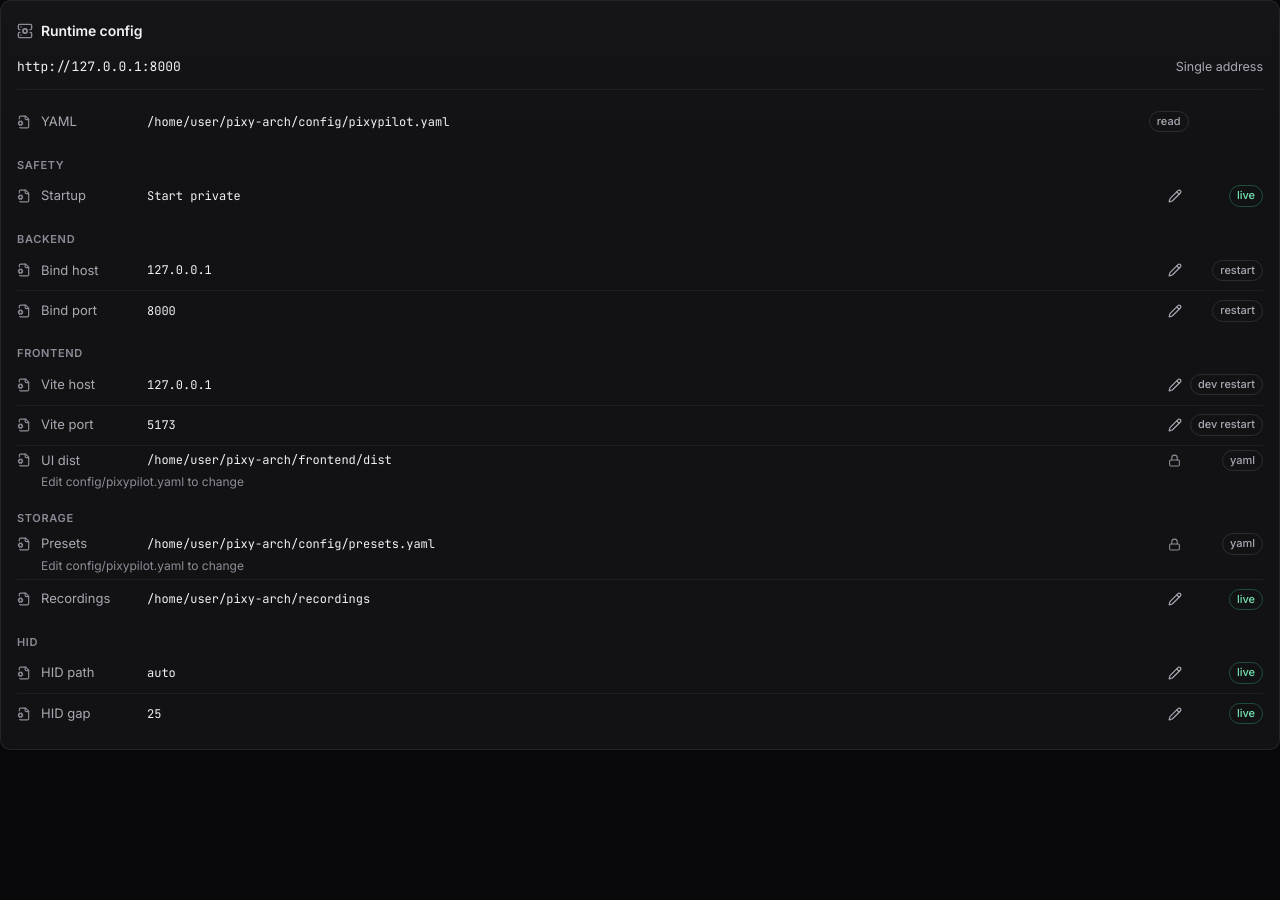
Test: RuntimeSettingsPanel › edits the Vite dev server port through runtime settings
The width and height of the screenshot is (1280, 900).
Click the button named "Edit Vite port": (1174, 425) [1160,411,1188,439]
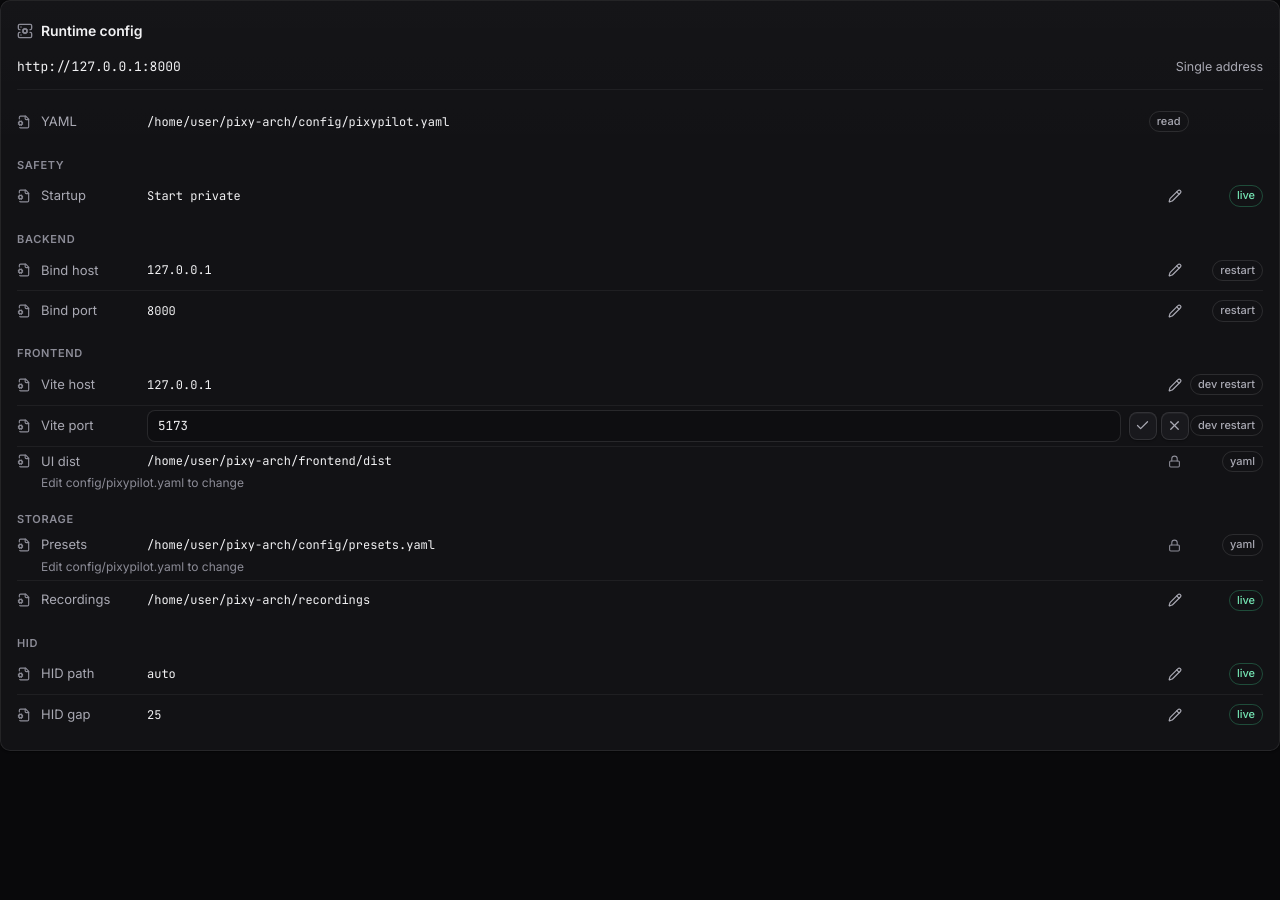
Replace the text in the number field showing "5173" with "5174": (634, 426) [147,410,1120,442]
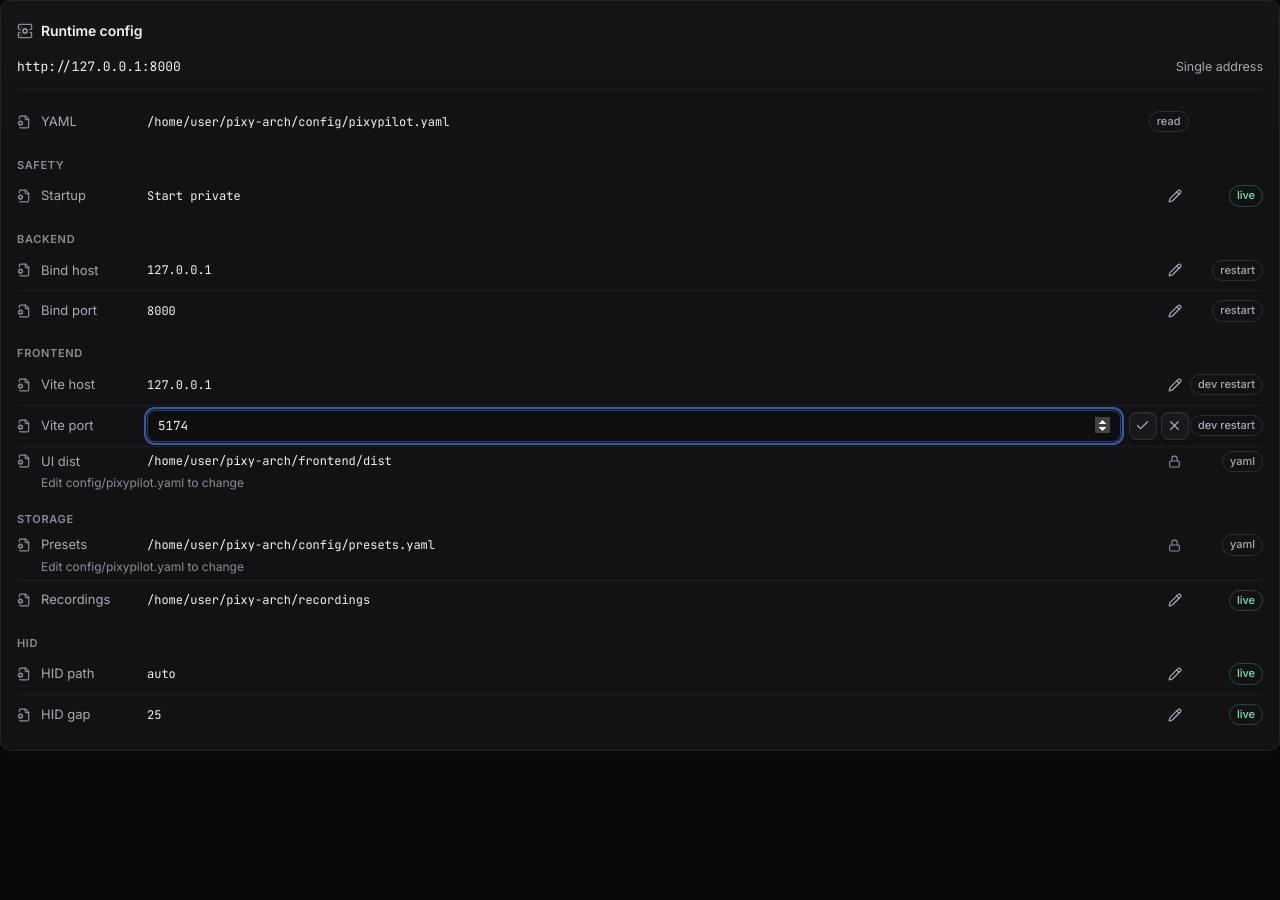
Click the button named "Save Vite port": (1142, 426) [1128,412,1156,440]
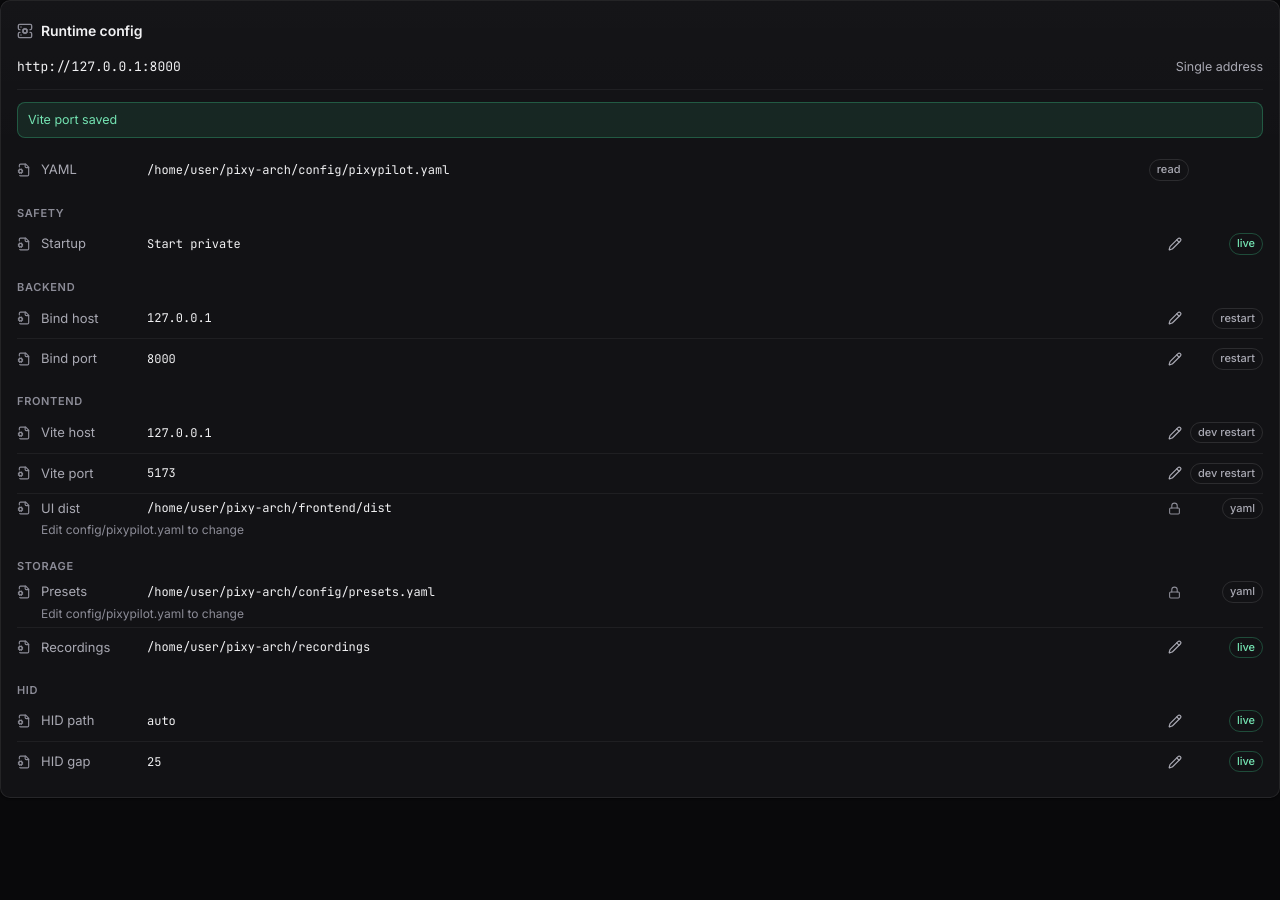
Now the text "Vite port saved" is shown, box [17,102,1263,138]
